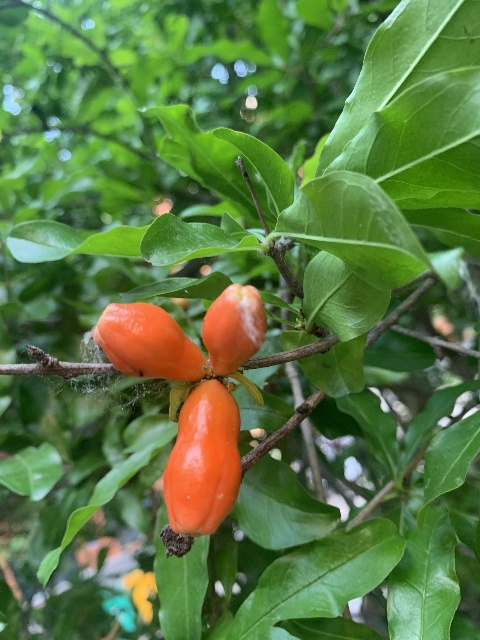bud: (162, 379, 242, 536), (93, 300, 208, 382), (202, 283, 267, 376)
